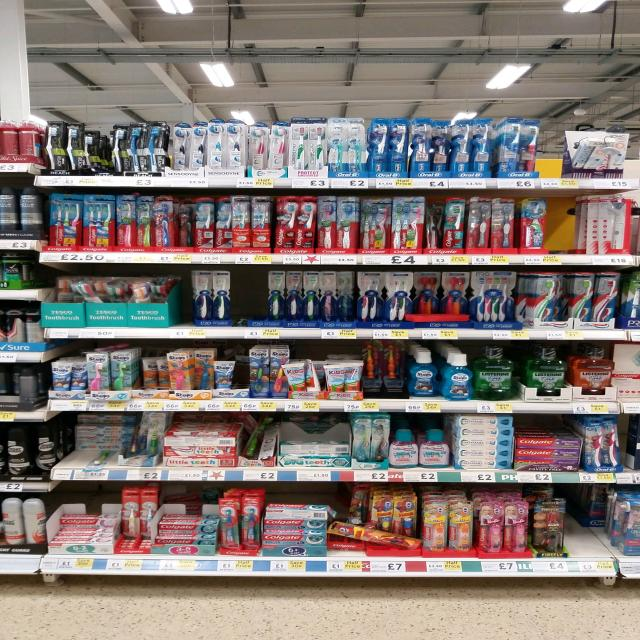void: (568, 484, 613, 558), (550, 191, 584, 254)
